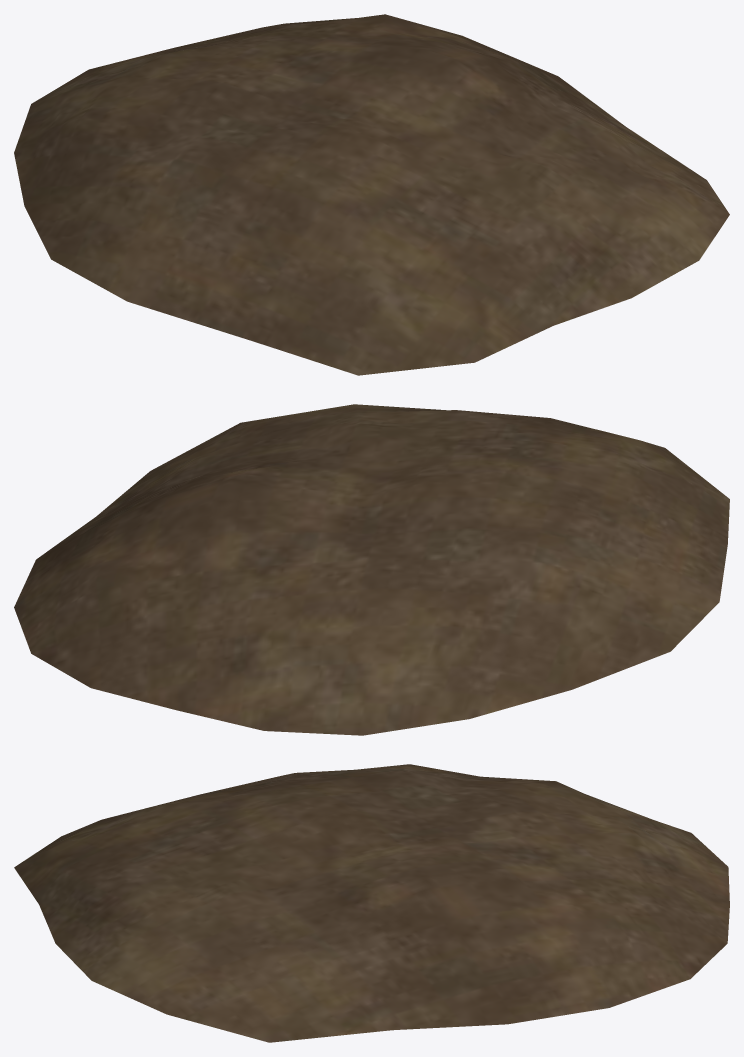
The model's file is SM_Dirt_Mound_B.glb.
The picture shows the model from 3 angles, top to bottom: view 1: azimuth 30°, elevation 25°; view 2: azimuth 150°, elevation 25°; view 3: azimuth 270°, elevation 25°; orthographic projection. The views are drawn at different scales.
Visible parts, largest first — view 1: SM_Dirt_Mound_B; view 2: SM_Dirt_Mound_B; view 3: SM_Dirt_Mound_B.
Part boxes in pixels (x1,y1,x2,y2): SM_Dirt_Mound_B: [14, 14, 729, 375]; SM_Dirt_Mound_B: [14, 404, 729, 735]; SM_Dirt_Mound_B: [14, 764, 729, 1042].
Bounding box in the file's own units: 1.32 × 0.206 × 1.53.
1 material, 1 textured.
